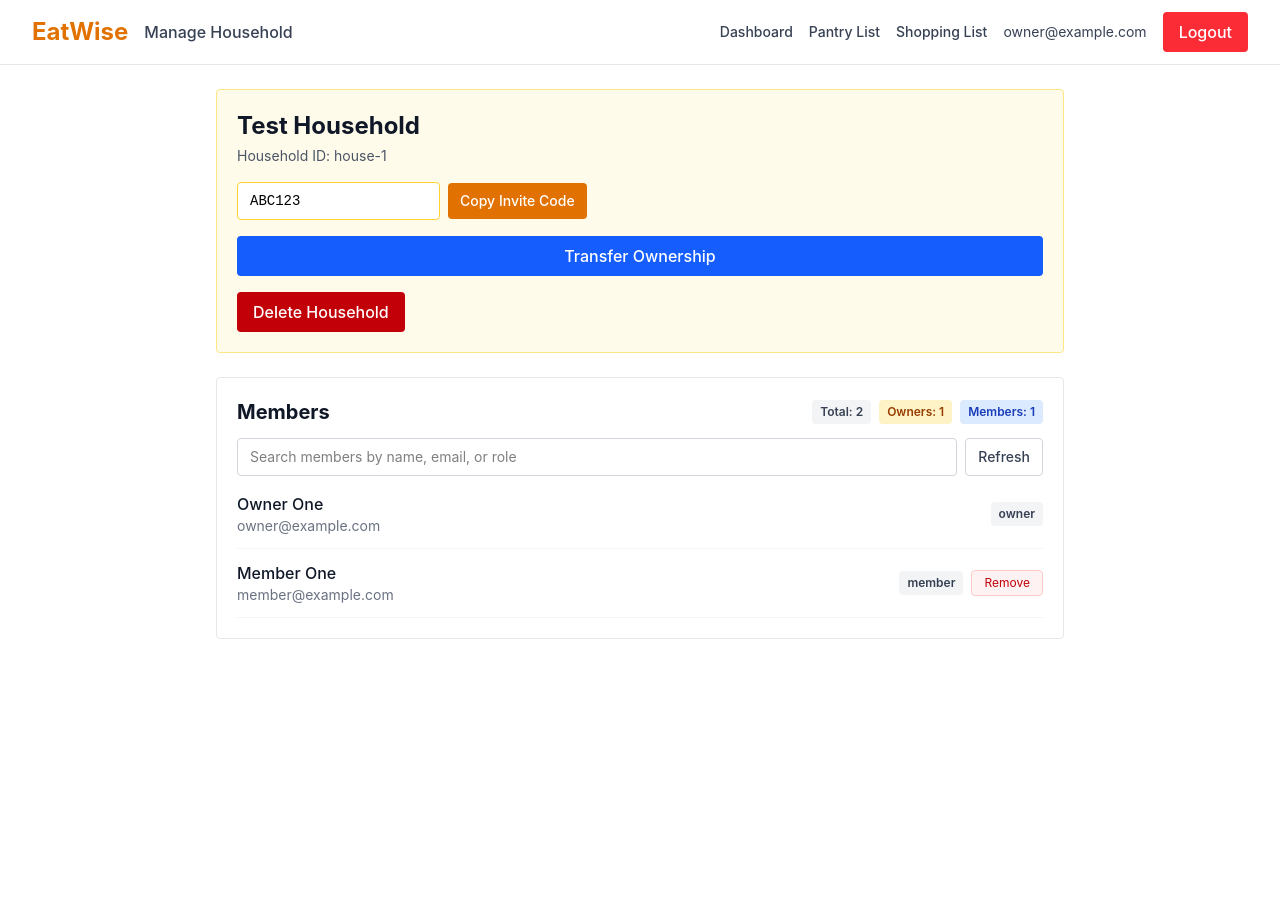
ManageHouseholdPage › closes transfer modal when cancel is clicked
The image size is (1280, 900).
Click the button "Transfer Ownership" at (640, 256), box [237,236,1043,276]
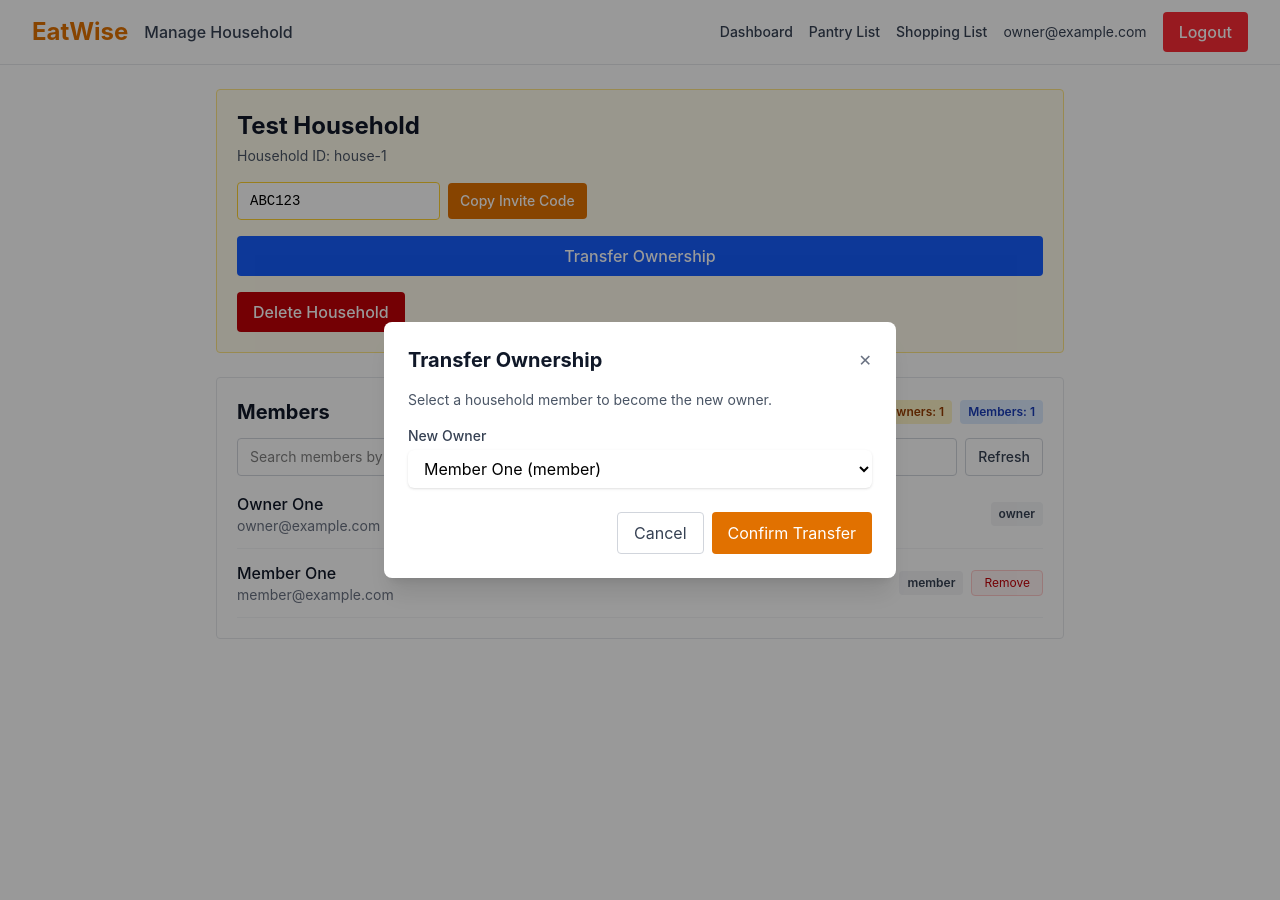
Click the button "Cancel" at (660, 533), box [617,512,704,554]
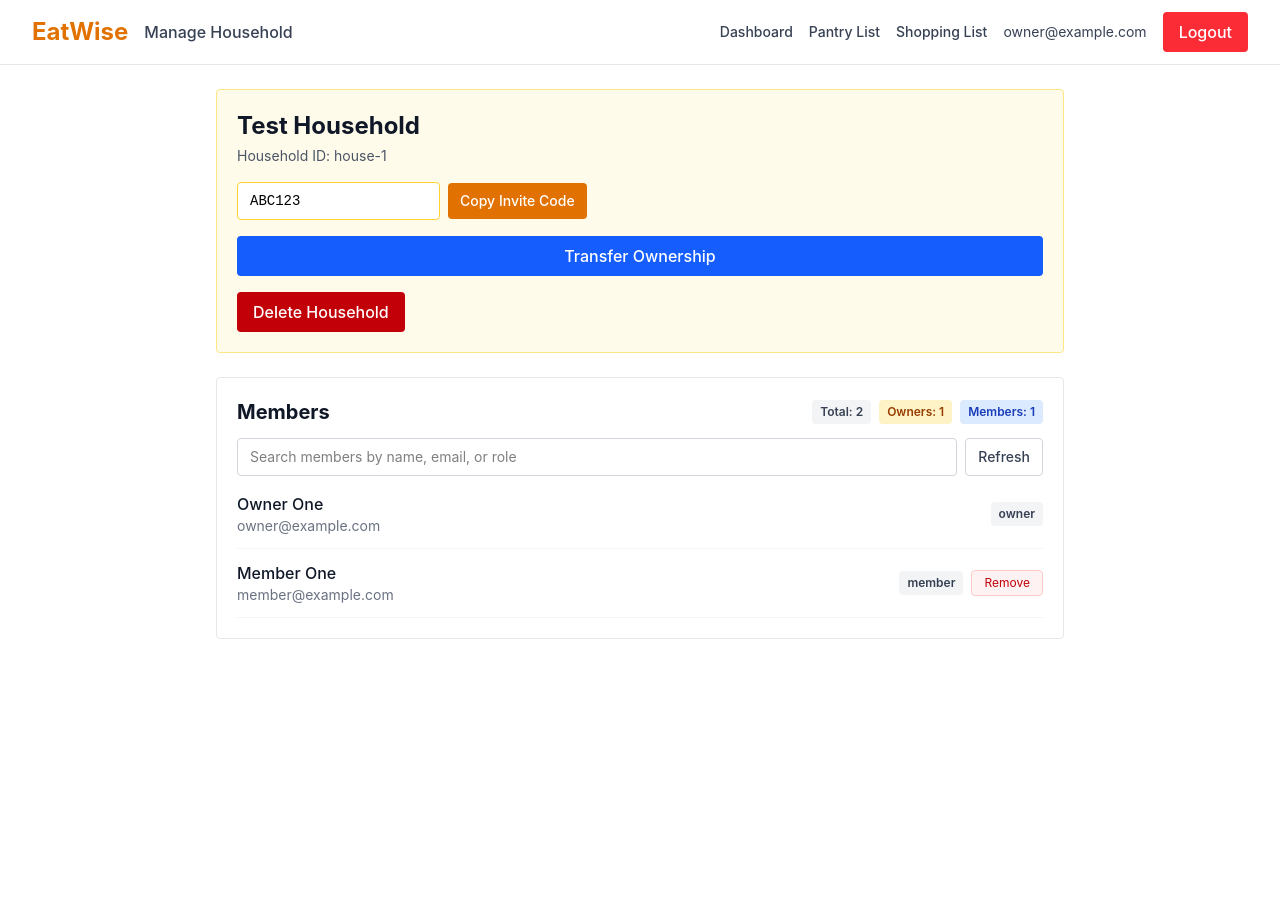
Result: the button "Confirm Transfer" is gone
